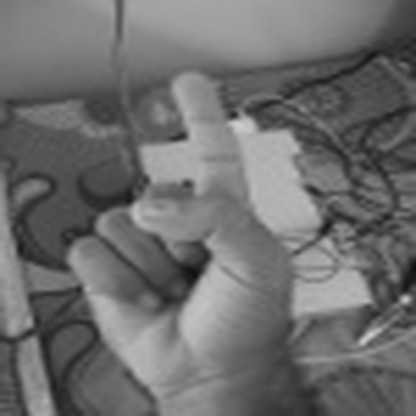d: (62, 67, 298, 396)
